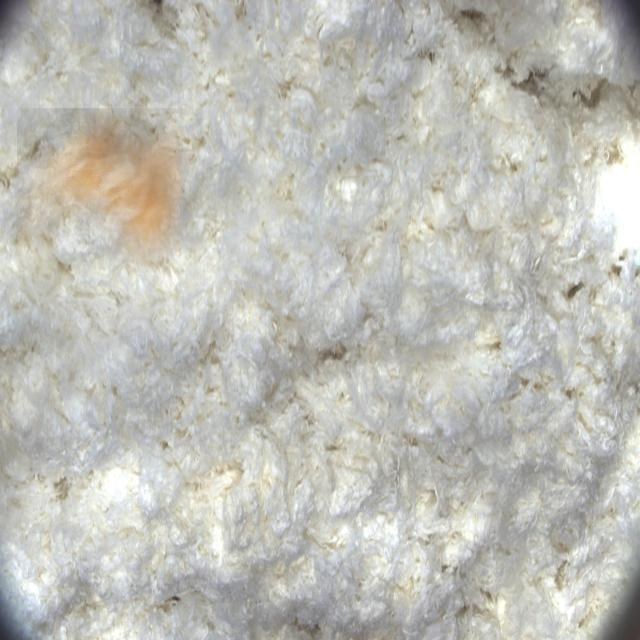dust: (17, 108, 183, 273)
